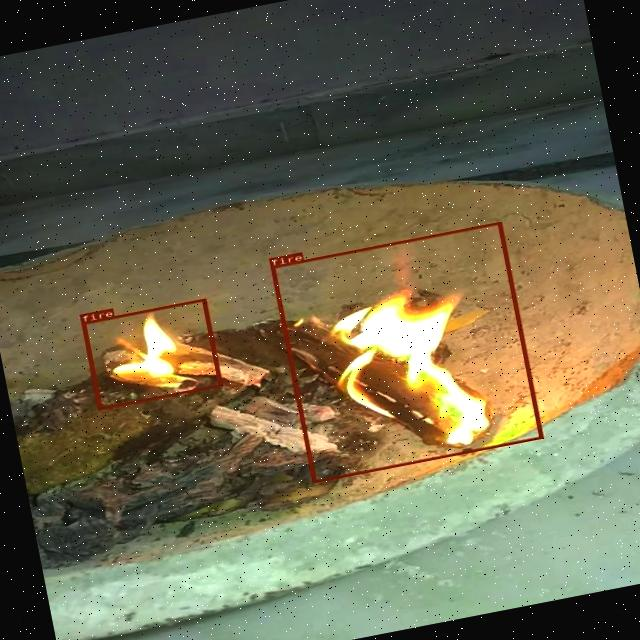fire: (270, 221, 543, 483), (81, 299, 222, 410)
